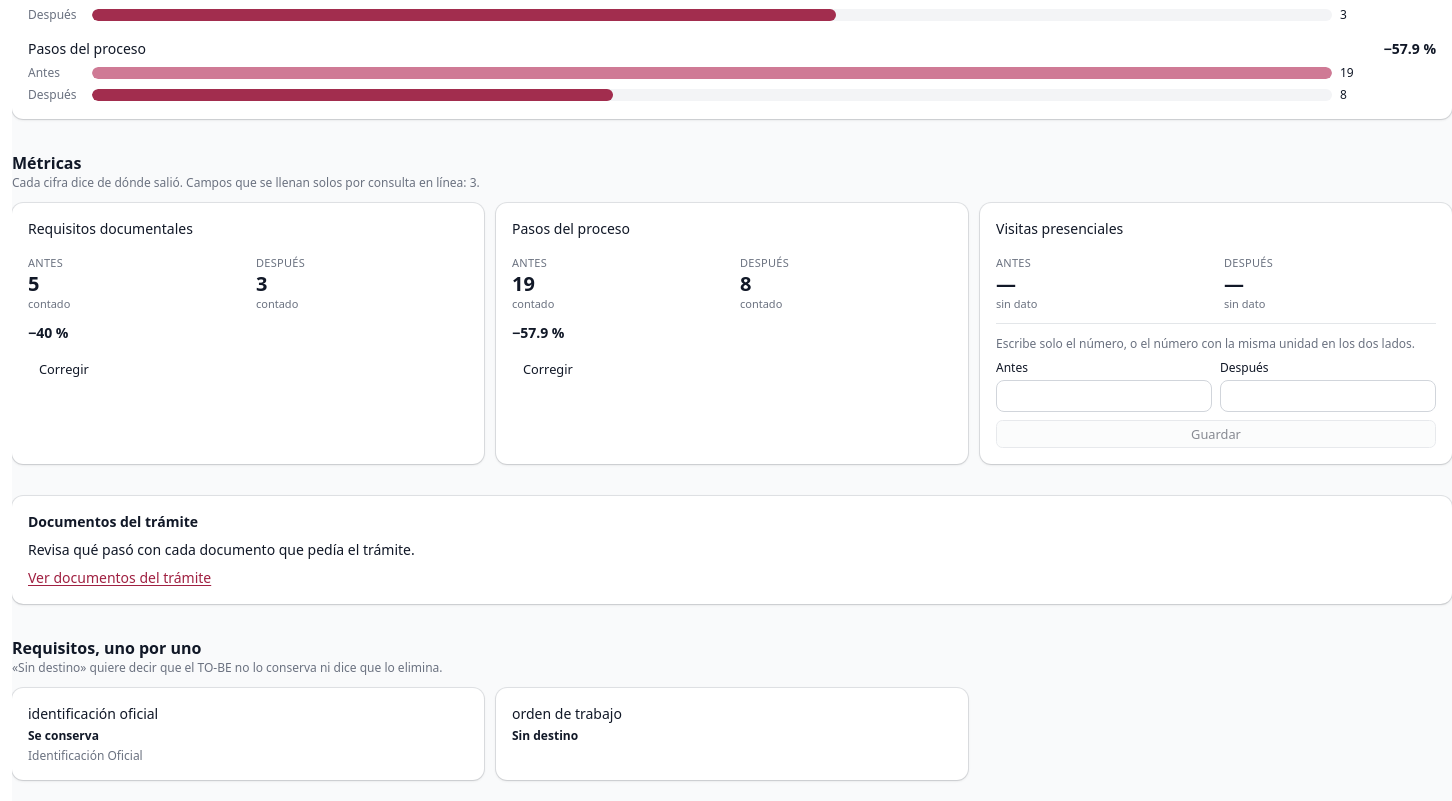
Test: si guardar falla lo dice y conserva lo escrito
(page scrolled)
Type "0" into the field labelled "Después" at (1328, 396), box [1220, 380, 1436, 412]
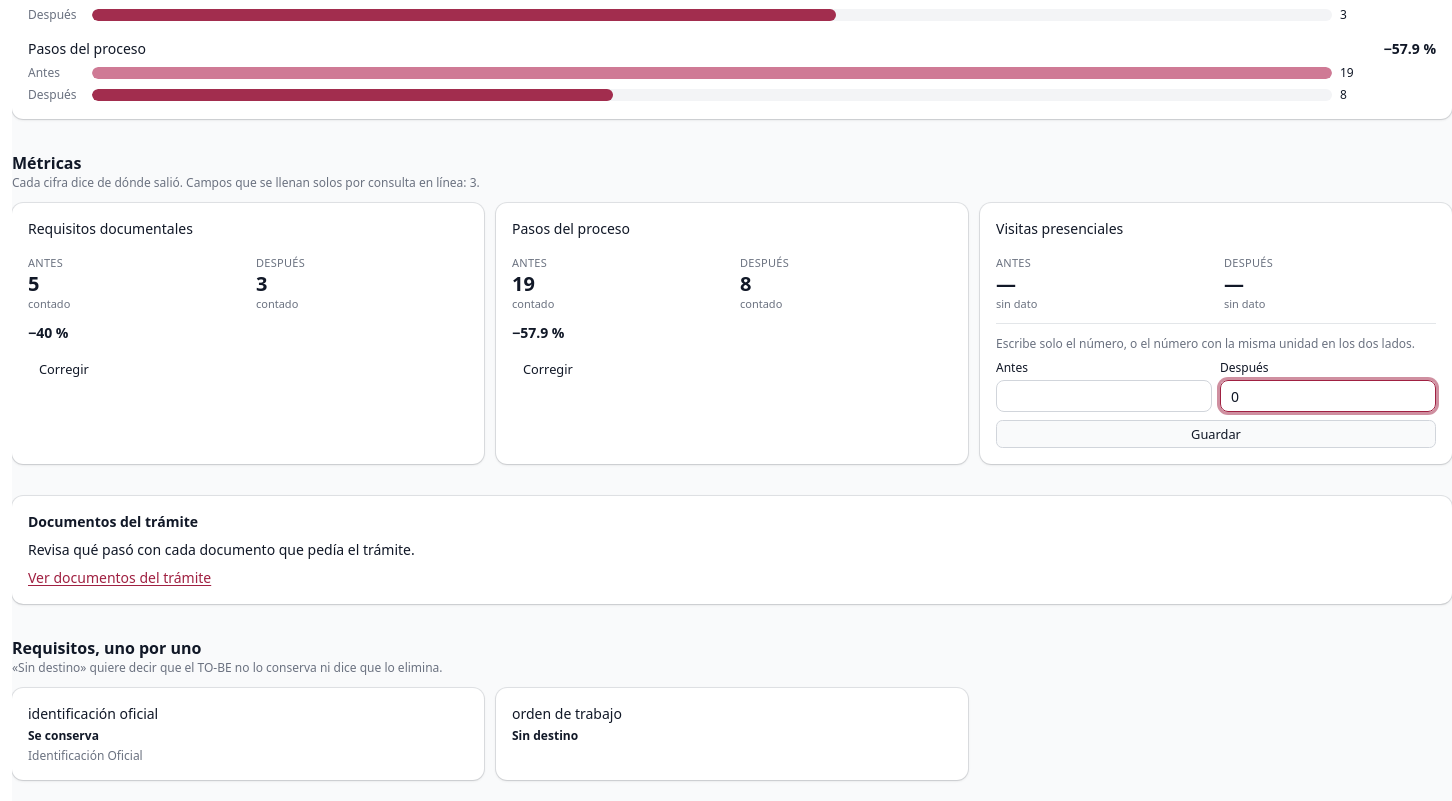
Click the button "Guardar" at (1216, 434), box [996, 420, 1436, 448]
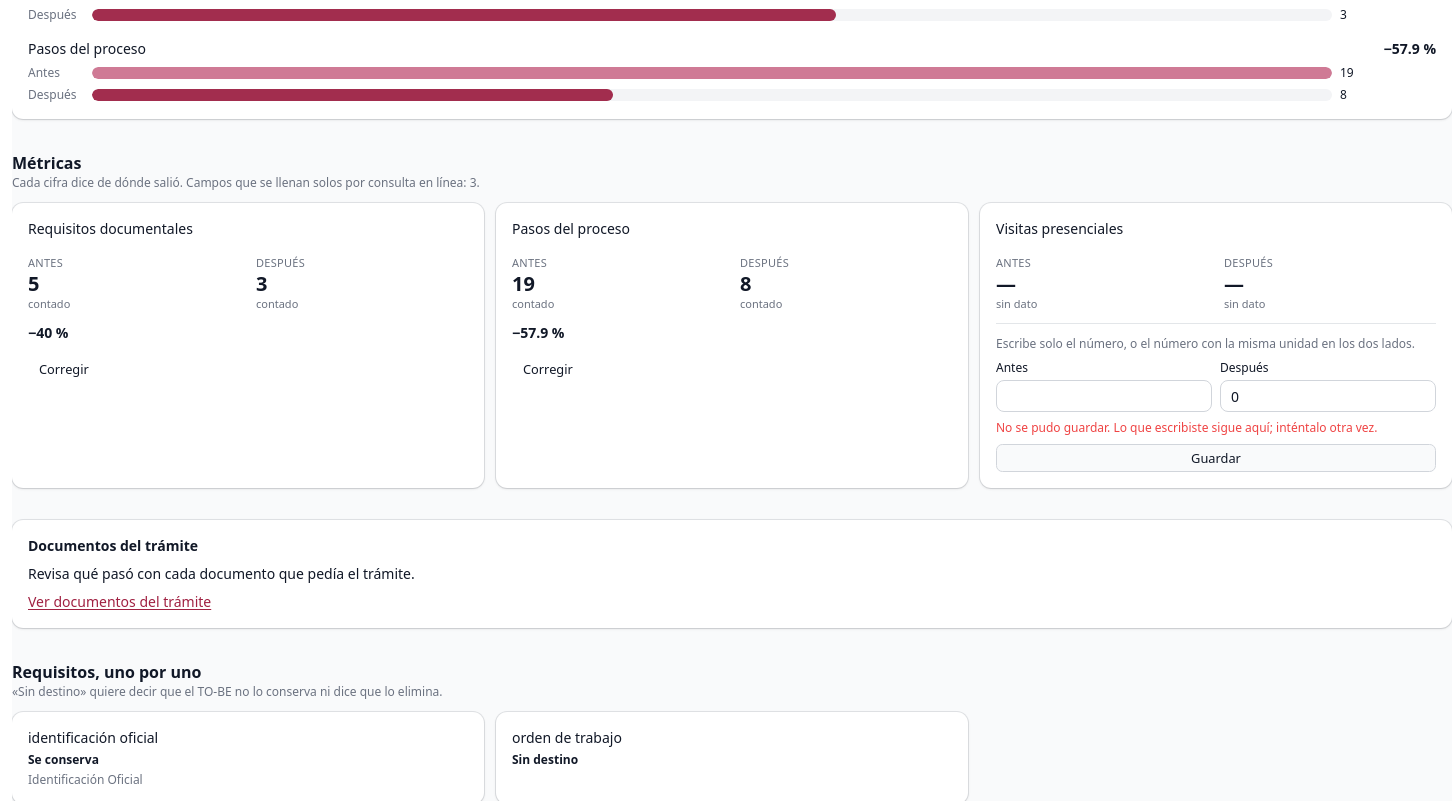
Check: the message shows "No se pudo guardar", box [996, 419, 1377, 436]
